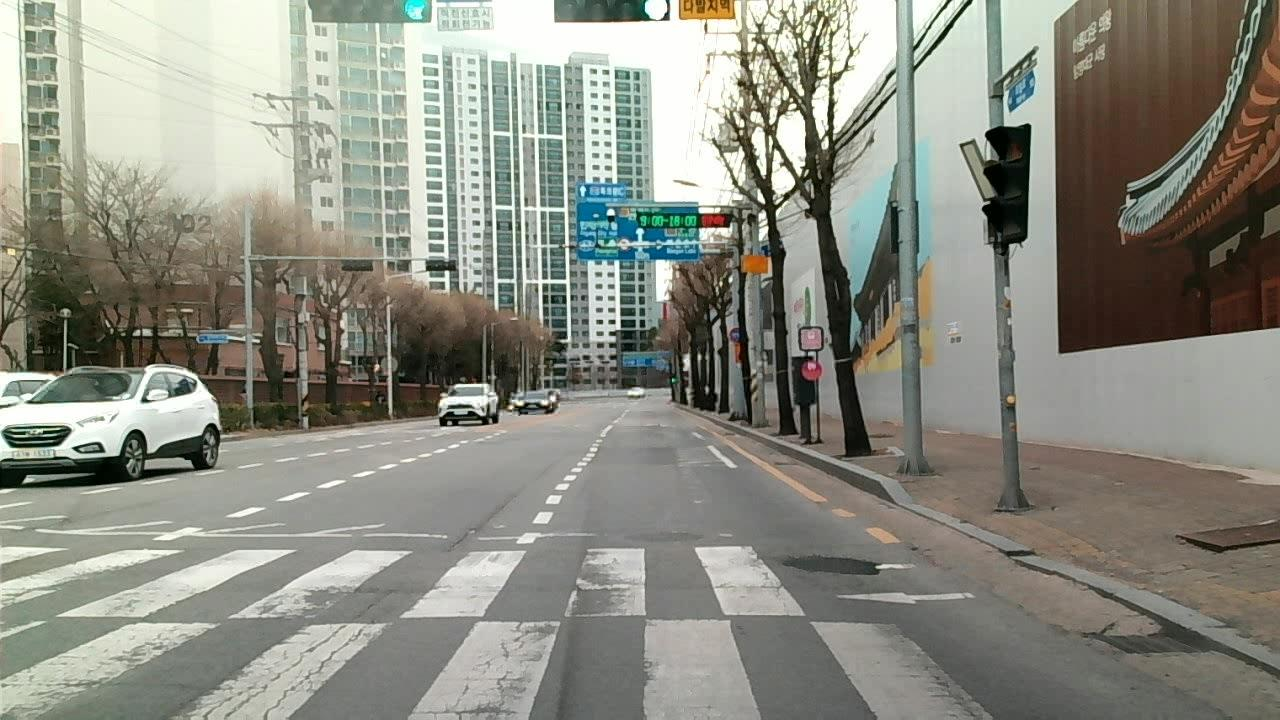vcrack: (454, 503, 506, 549)
